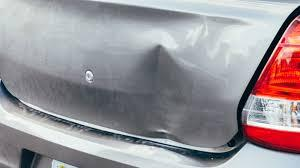dent: (125, 36, 195, 142)
